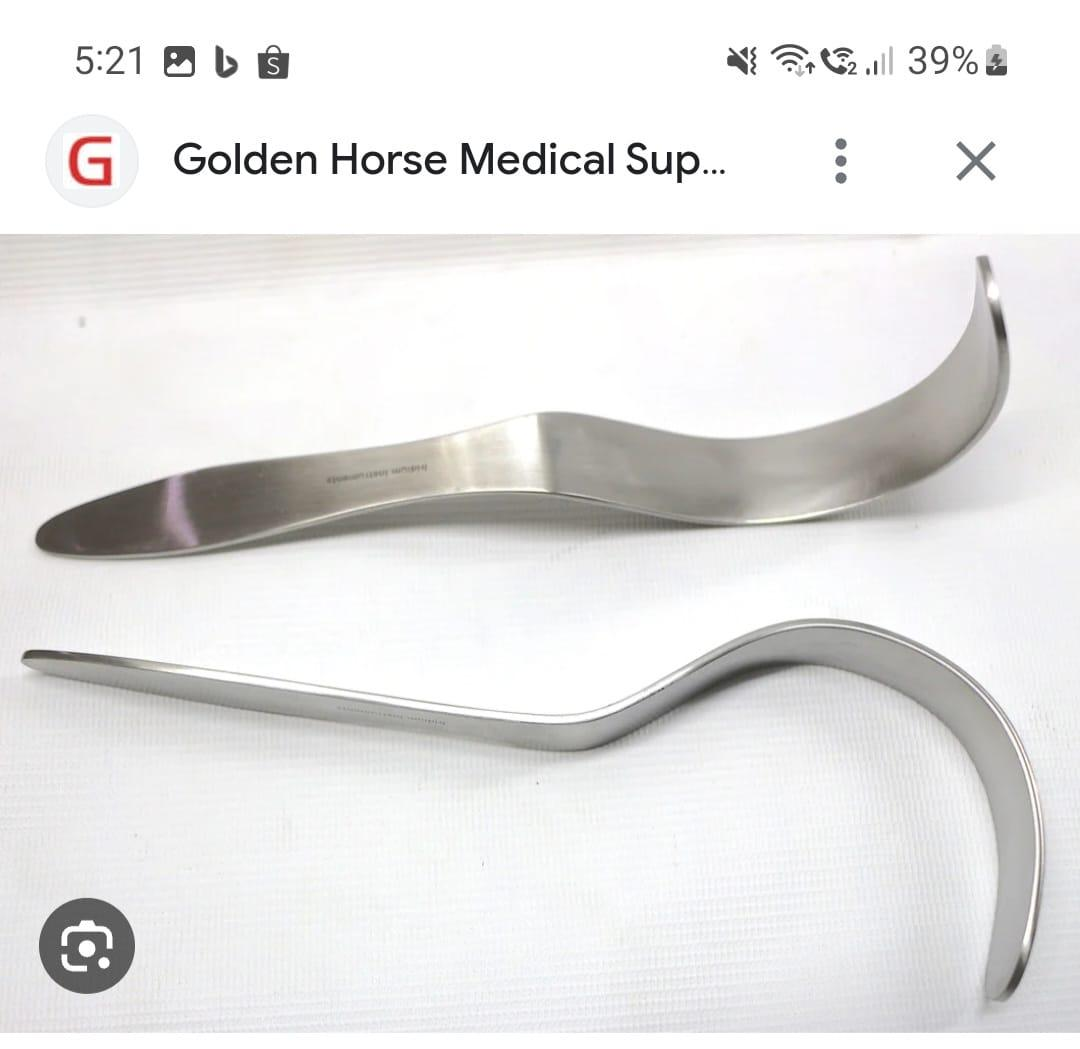Deaver Retractor: (10, 603, 1045, 1010), (18, 245, 1027, 580)
